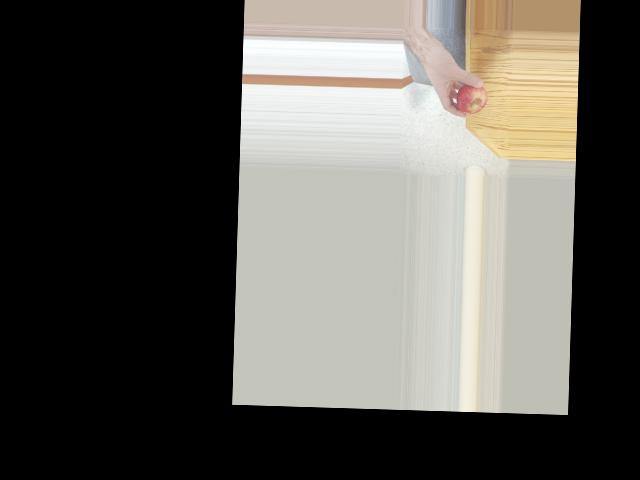apple: (453, 79, 489, 115)
